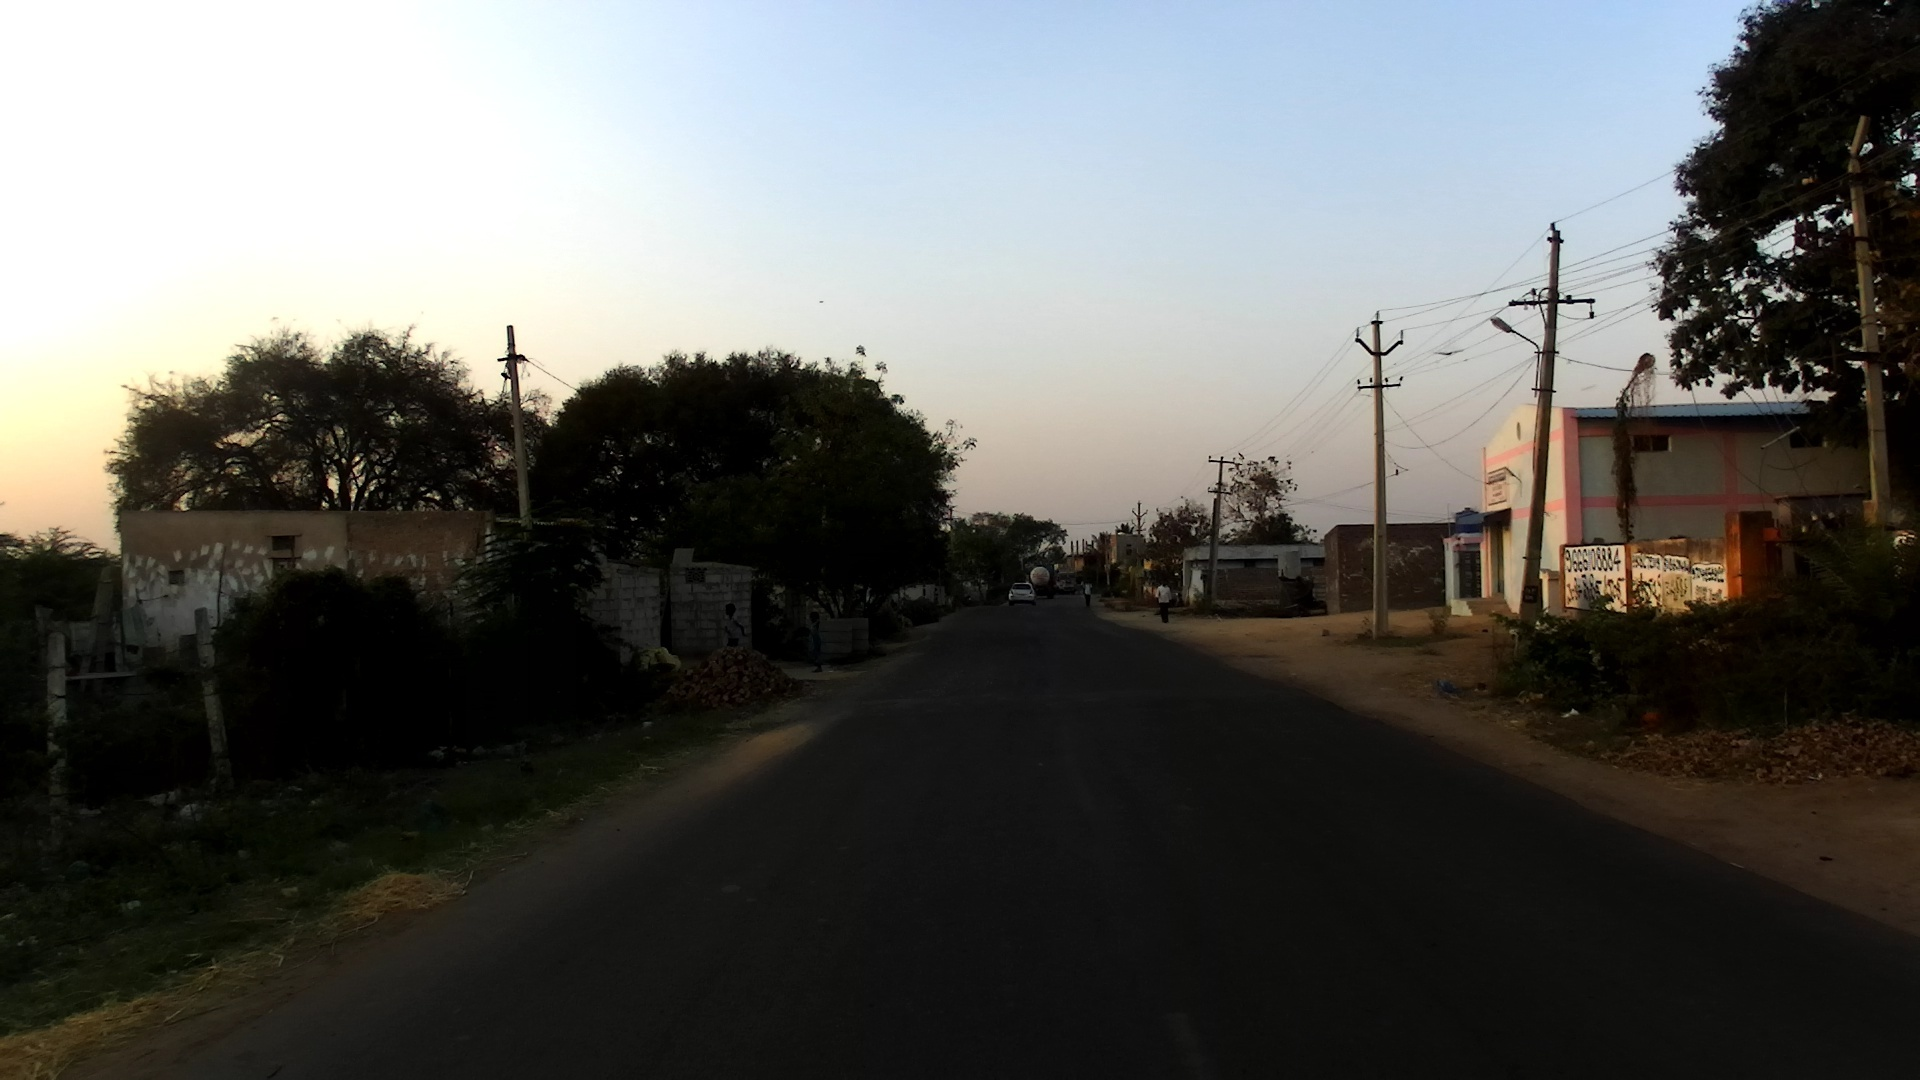car: (1008, 580, 1041, 607)
person: (802, 606, 827, 683), (721, 600, 749, 651), (1151, 580, 1174, 624), (1081, 578, 1094, 606)
truck: (1028, 566, 1057, 604), (1054, 572, 1078, 597)
